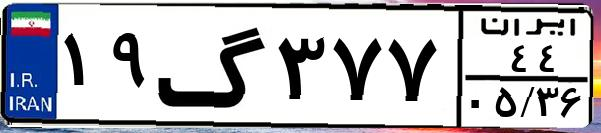0: (470, 70, 495, 125)
1: (57, 26, 110, 100)
3: (270, 28, 330, 110), (535, 70, 560, 125)
4: (537, 27, 568, 80), (508, 27, 537, 80)
5: (495, 70, 520, 125)
6: (560, 70, 590, 125)
7: (385, 28, 445, 110), (330, 28, 385, 110)
9: (110, 28, 156, 98)
گ: (156, 12, 270, 120)
